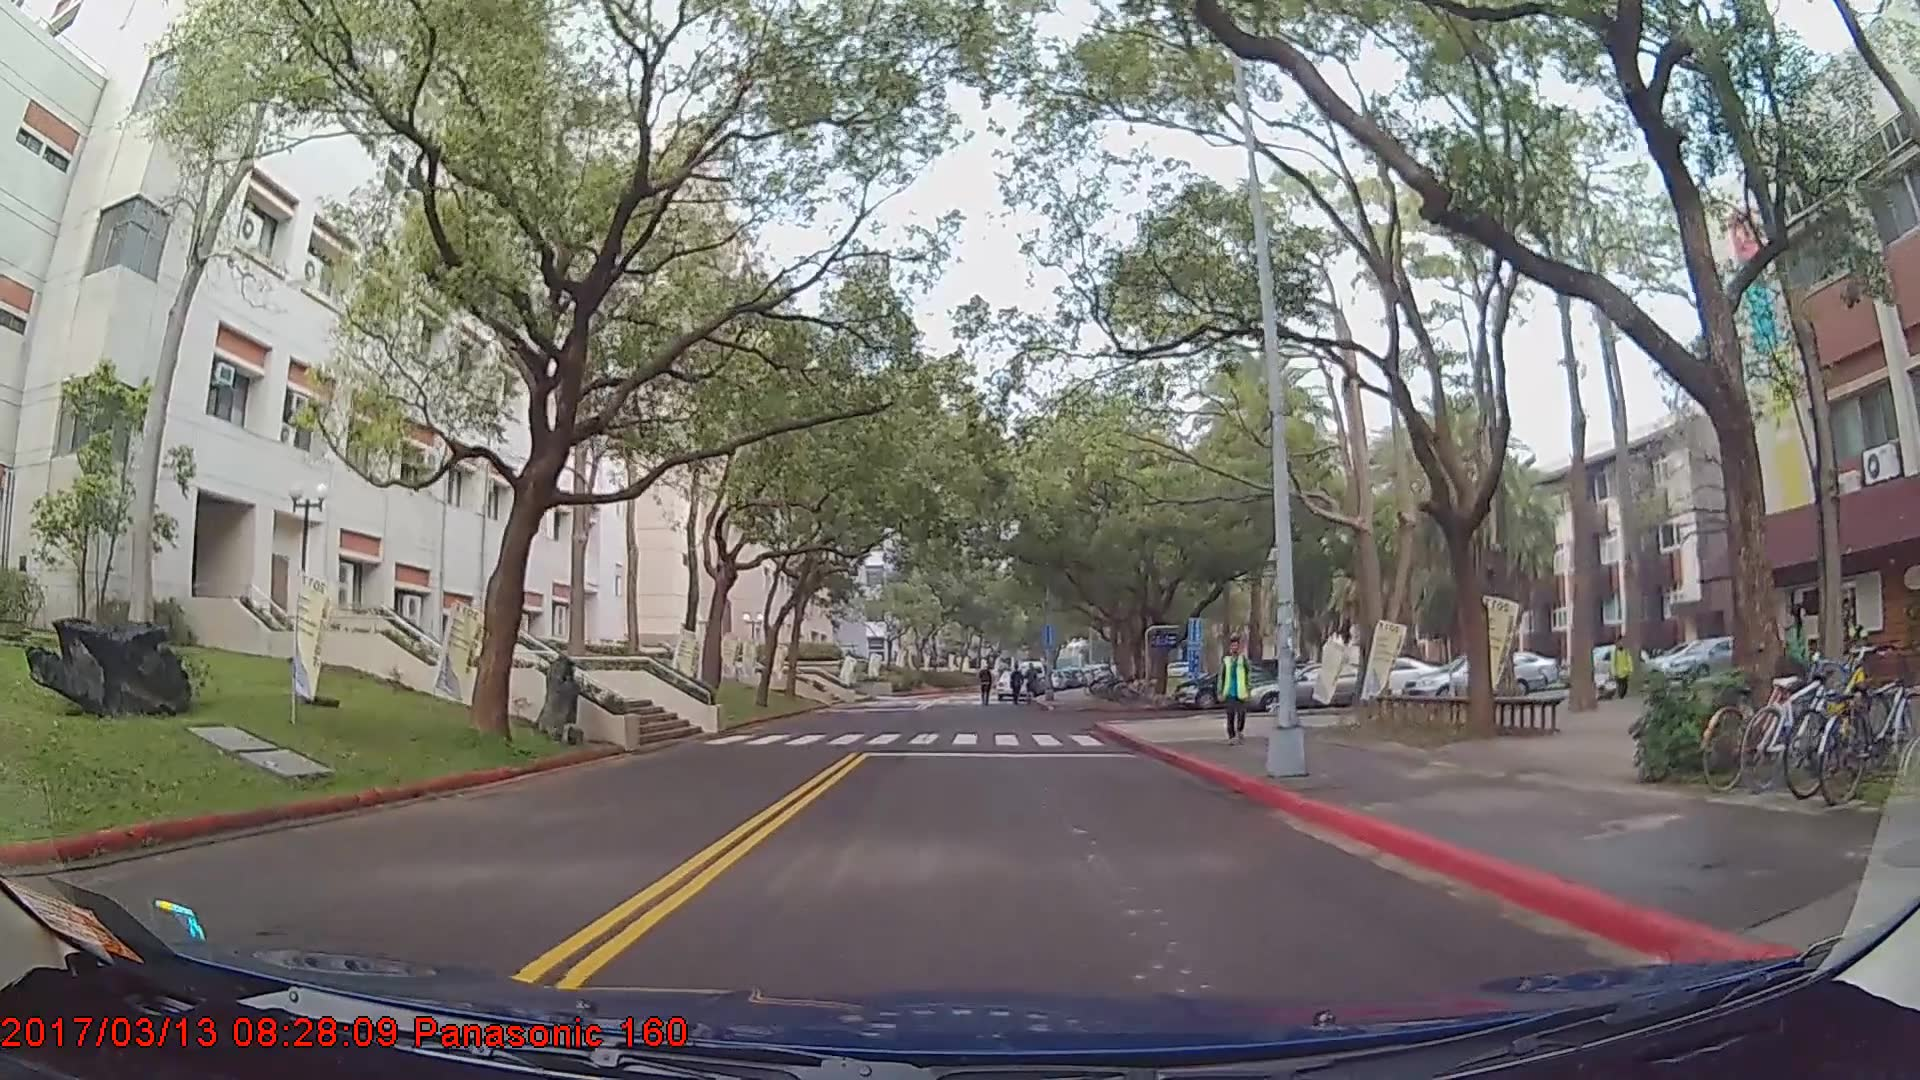pedestrian: (1218, 645, 1256, 749), (1610, 641, 1634, 705), (1009, 665, 1030, 711)
vehicle: (1404, 650, 1545, 707), (1243, 663, 1390, 716)
